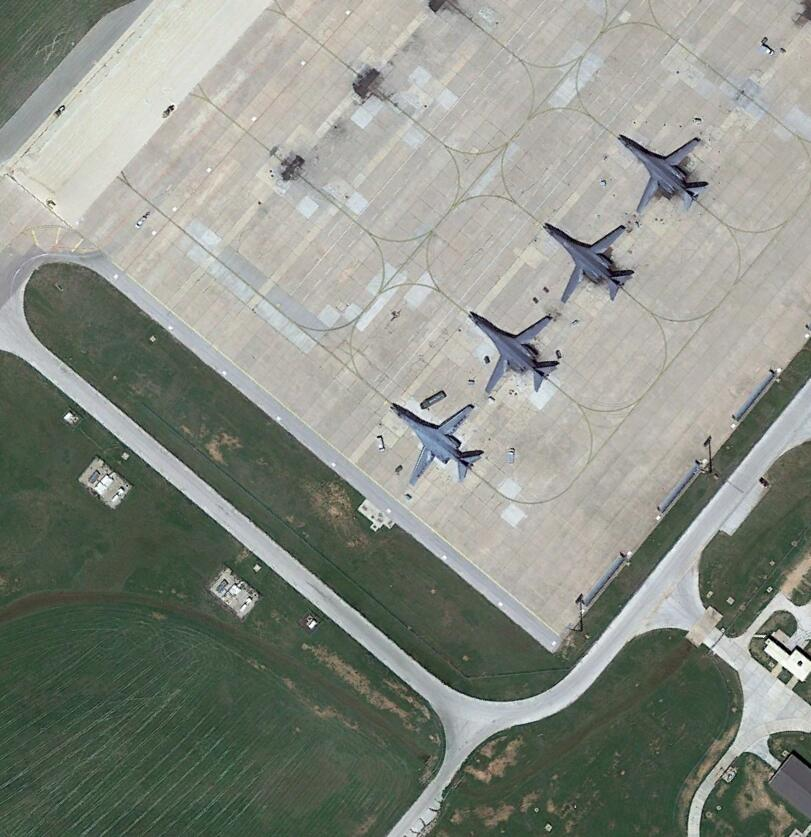A10: (536, 216, 638, 306), (468, 304, 561, 396), (388, 396, 484, 484), (617, 128, 711, 213)
